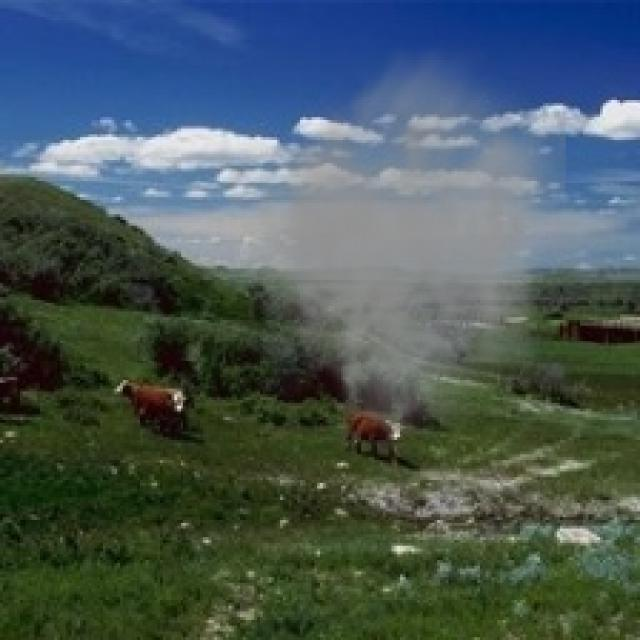Smoke: (211, 32, 566, 454)
